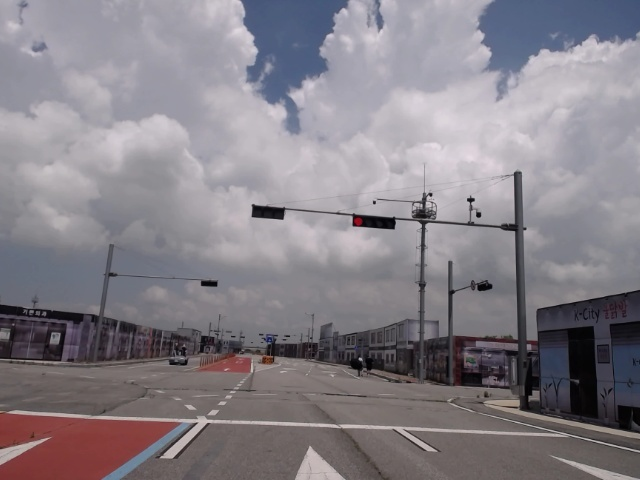red_4: (352, 216, 394, 229)
